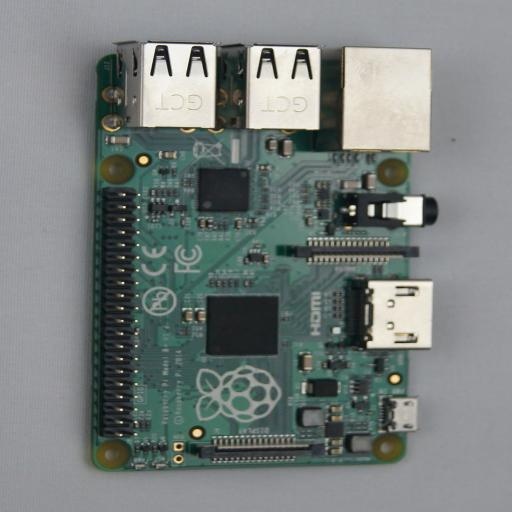Raspberry Pi 1 B-: (80, 40, 454, 472)
